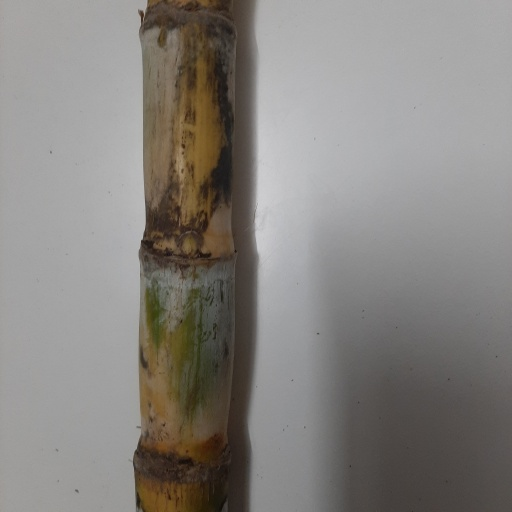Bud: (179, 232, 202, 258)
